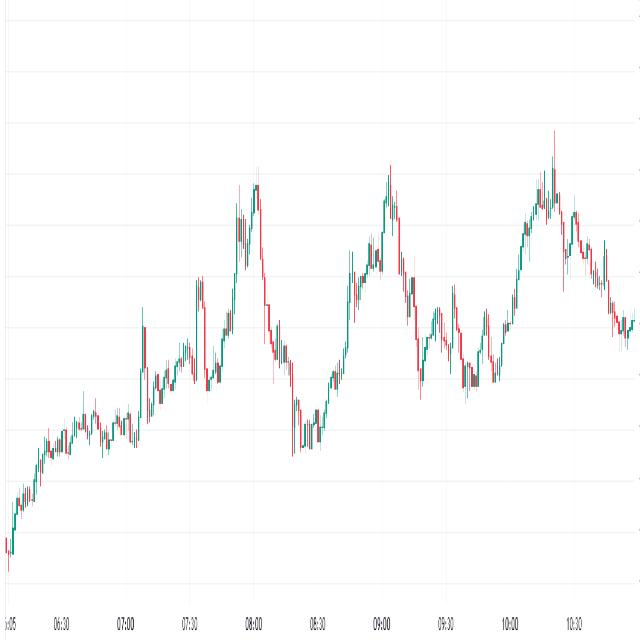Double-Top: (228, 166, 268, 296)
Head-Shoulders: (343, 158, 421, 414)
Rounding-Bottom: (288, 376, 330, 467)
